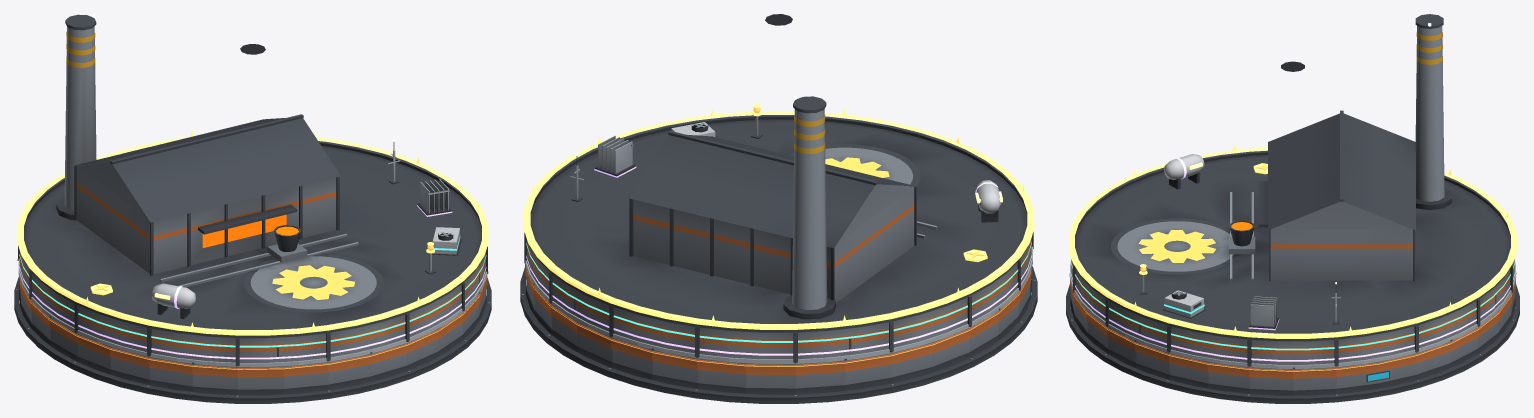
File: steel_mill_l.glb
3 renders of one model, left to right at view 1: azimuth 30°, elevation 25°; view 2: azimuth 150°, elevation 25°; view 3: azimuth 270°, elevation 25°, orthographic. The views are drawn at different scales.
Visible parts, largest first — view 1: Roof, Base, L4, Wall_21, Wall_20, Wall_22, Wall_19, Wall_23, Wall_18, Wall_24, Upper_21, Upper_20 (+17 smaller); view 2: Roof, Base, L4, Wall_10, Wall_11, Wall_09, Wall_12, Wall_08, Wall_13, Wall_07, Upper_10, Upper_11 (+17 smaller); view 3: Roof, Base, L4, Wall_00, Wall_31, Wall_30, Wall_01, Wall_29, Wall_02, Upper_00, Upper_31, Wall_28 (+16 smaller).
Part boxes in pixels (bbox=[...]): Roof: bbox=[22, 14, 483, 338]; Base: bbox=[14, 277, 491, 403]; L4: bbox=[152, 179, 452, 319]; Wall_21: bbox=[237, 366, 283, 395]; Wall_20: bbox=[192, 362, 237, 395]; Wall_22: bbox=[283, 362, 328, 394]; Wall_19: bbox=[149, 357, 192, 391]; Wall_23: bbox=[328, 354, 370, 390]; Wall_18: bbox=[110, 347, 149, 385]; Wall_24: bbox=[370, 343, 407, 381]; Upper_21: bbox=[237, 337, 283, 365]; Upper_20: bbox=[192, 335, 237, 365]; Roof: bbox=[529, 14, 1028, 332]; Base: bbox=[520, 266, 1037, 403]; L4: bbox=[594, 135, 1002, 222]; Wall_10: bbox=[745, 363, 795, 394]; Wall_11: bbox=[795, 360, 844, 394]; Wall_09: bbox=[697, 358, 745, 393]; Wall_12: bbox=[844, 353, 891, 390]; Wall_08: bbox=[652, 348, 697, 388]; Wall_13: bbox=[891, 342, 933, 383]; Wall_07: bbox=[611, 338, 652, 379]; Upper_10: bbox=[746, 332, 795, 362]; Upper_11: bbox=[795, 329, 844, 362]; Roof: bbox=[1074, 14, 1511, 341]; Base: bbox=[1066, 284, 1519, 403]; L4: bbox=[1164, 154, 1279, 330]; Wall_00: bbox=[1293, 367, 1336, 395]; Wall_31: bbox=[1249, 367, 1292, 395]; Wall_30: bbox=[1207, 362, 1249, 393]; Wall_01: bbox=[1336, 362, 1378, 393]; Wall_29: bbox=[1169, 353, 1207, 388]; Wall_02: bbox=[1378, 353, 1416, 388]; Upper_00: bbox=[1293, 340, 1336, 366]; Upper_31: bbox=[1249, 340, 1292, 366]; Wall_28: bbox=[1135, 340, 1169, 379].
Size of the model in its own units: 18.96 by 11.29 by 18.96.
